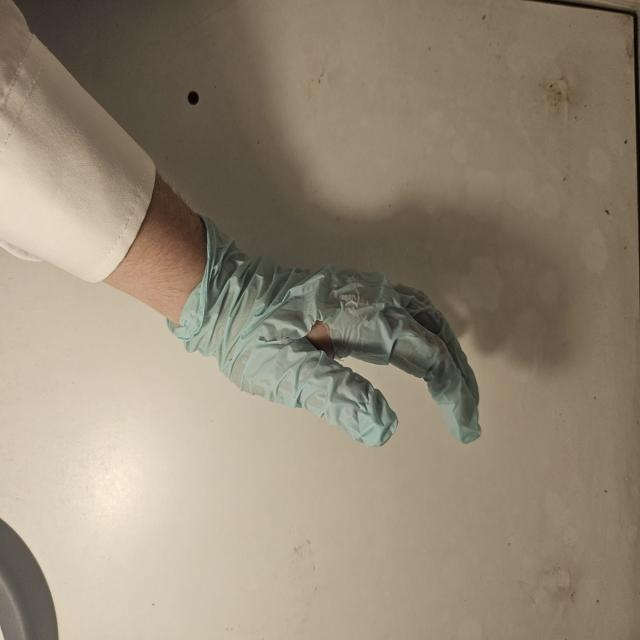gloves_damaged: (166, 206, 483, 452)
